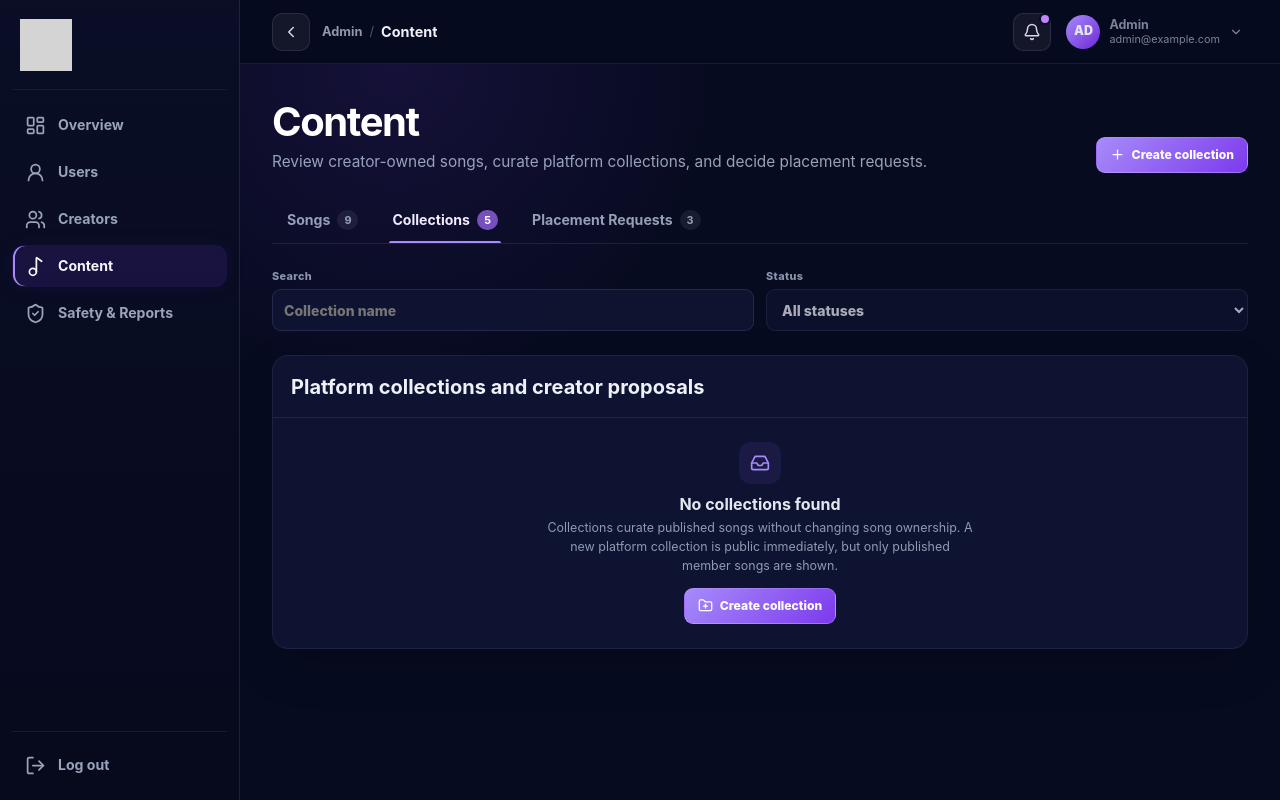
it: consolidated admin routes › prevents repeated collection submissions and announces success
Expected: the heading "No collections found" is shown, x1=679 y1=492 x2=841 y2=516
Click the 1st button "Create collection".
click(1172, 155)  # box x1=1096 y1=137 x2=1248 y2=173
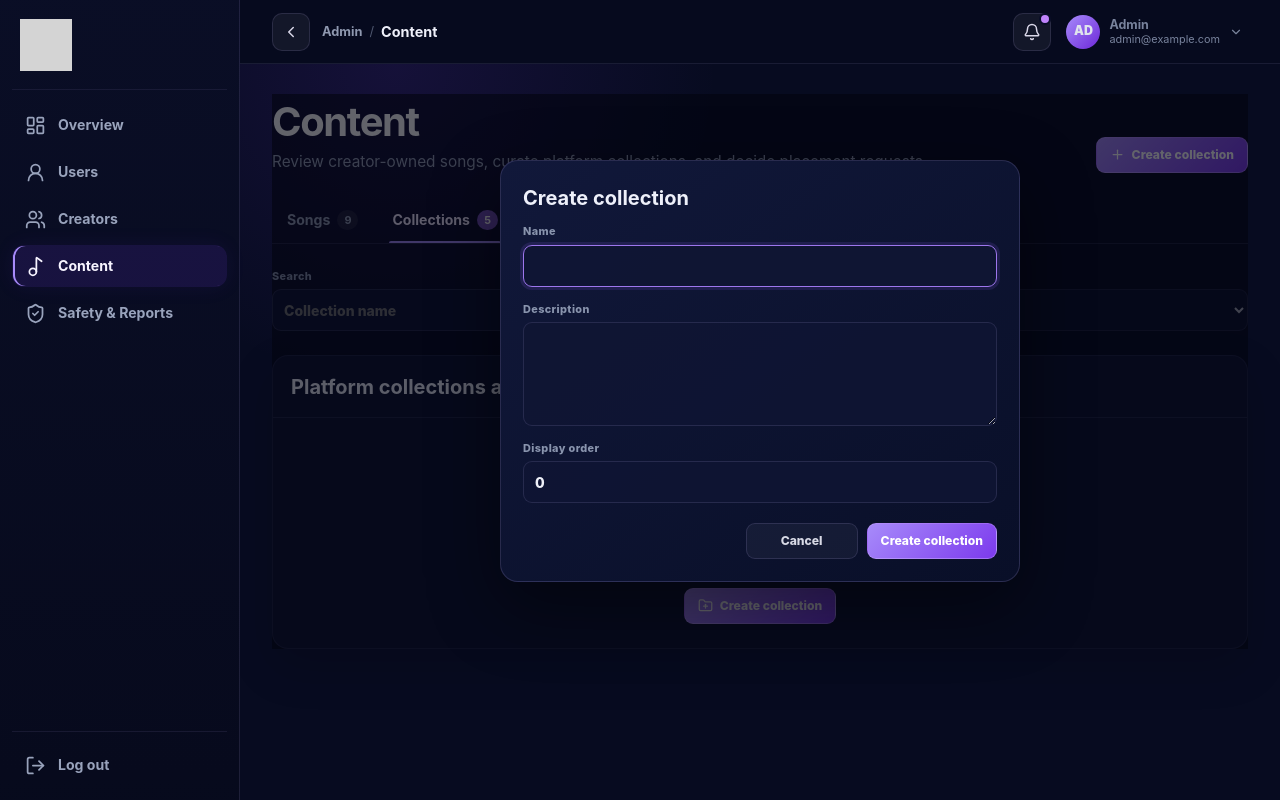
Type "Heritage" into the field labelled "Name".
click(760, 266); type("Heritage")  # box x1=523 y1=245 x2=997 y2=287
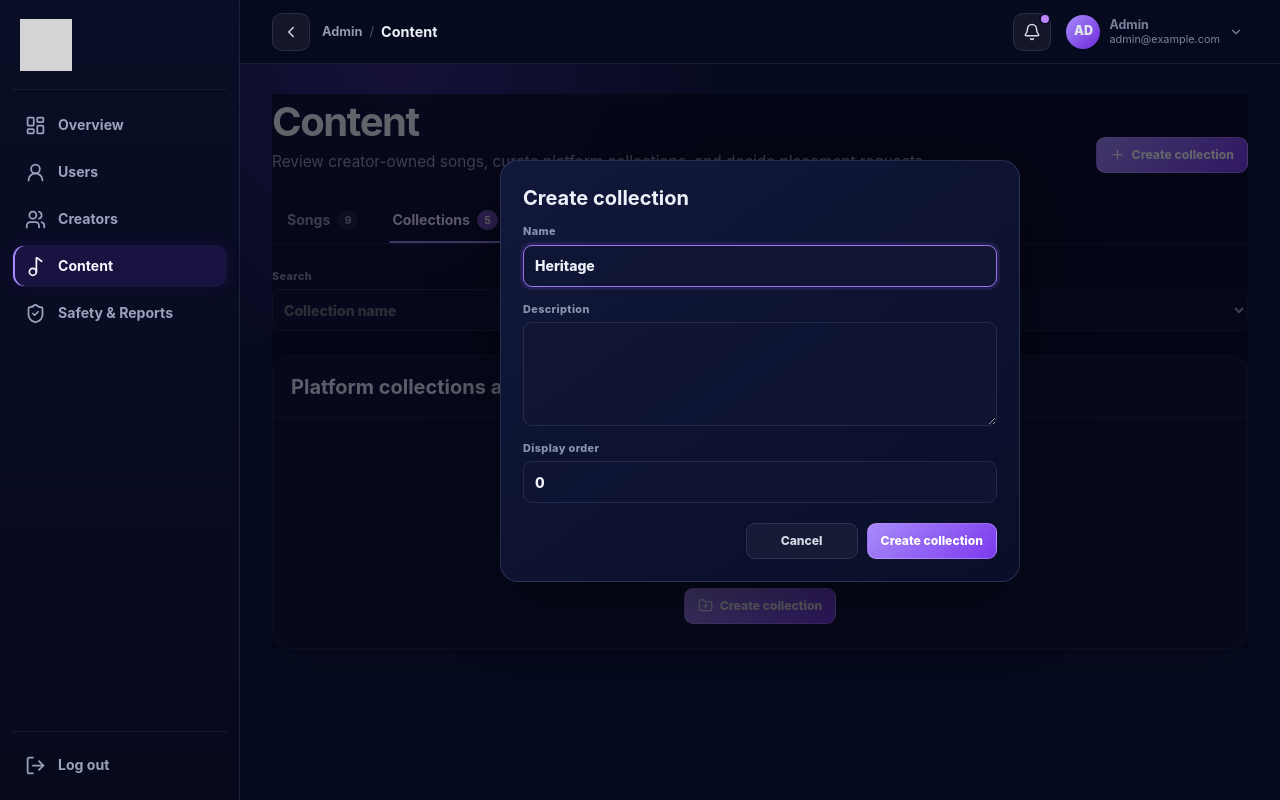
Click the button "Create collection".
click(932, 541)  # box x1=867 y1=523 x2=997 y2=559
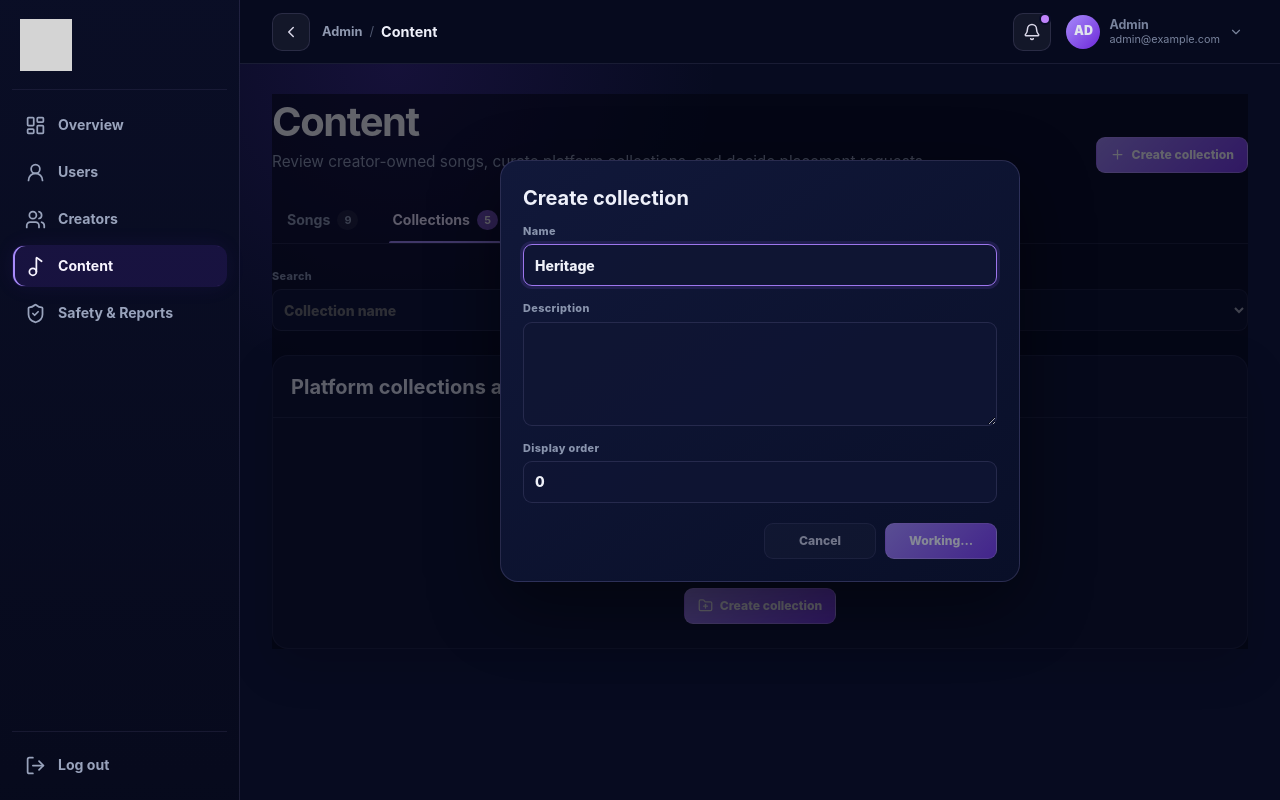
Now the button "Working…" is disabled
Click the button "Working…".
click(941, 541)  # box x1=885 y1=523 x2=997 y2=559
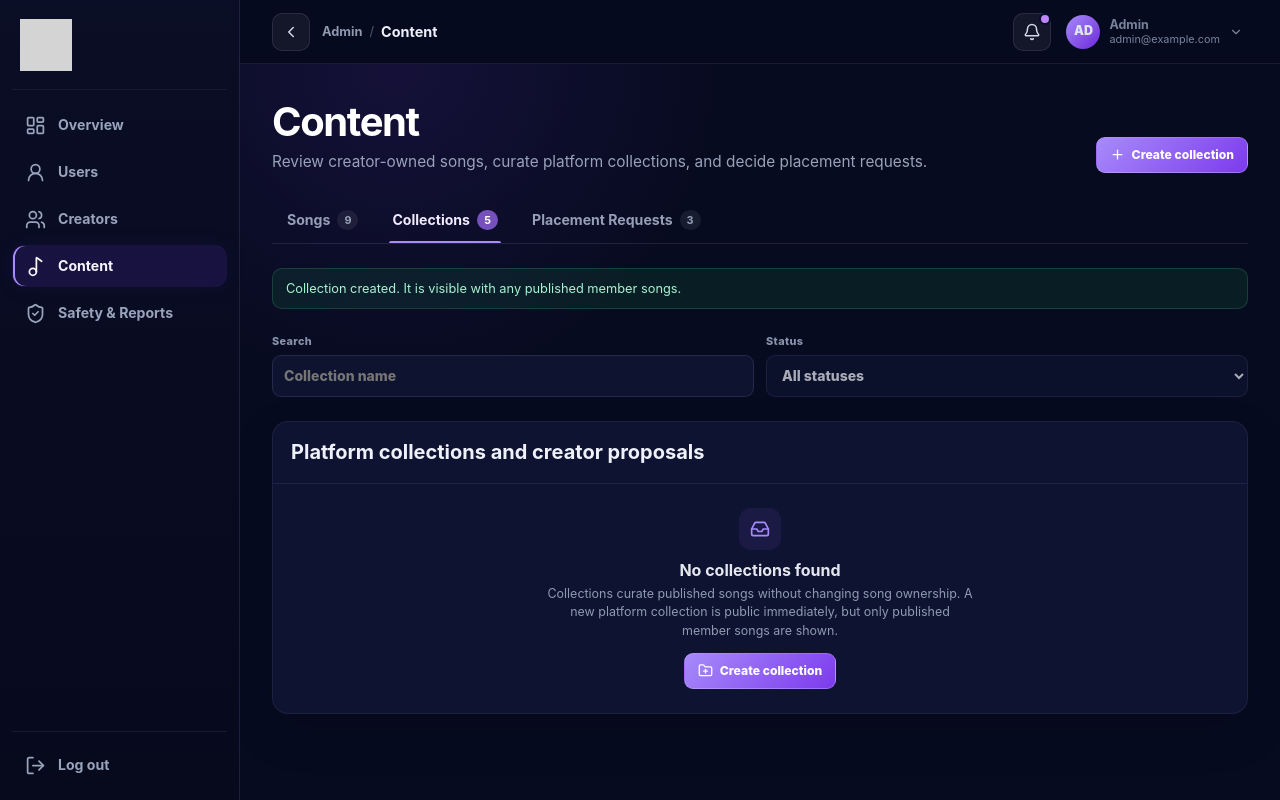
Now the message shows "Collection created.", box x1=286 y1=281 x2=681 y2=296
